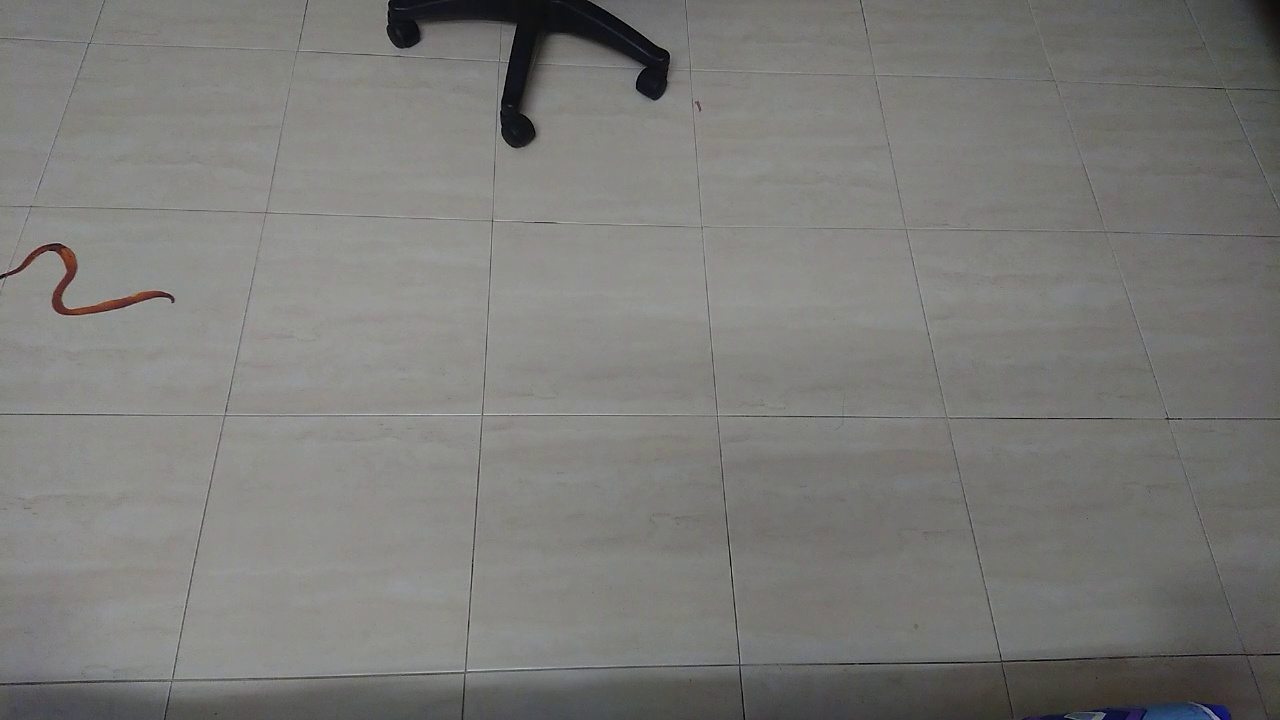snake: (1, 219, 190, 338)
